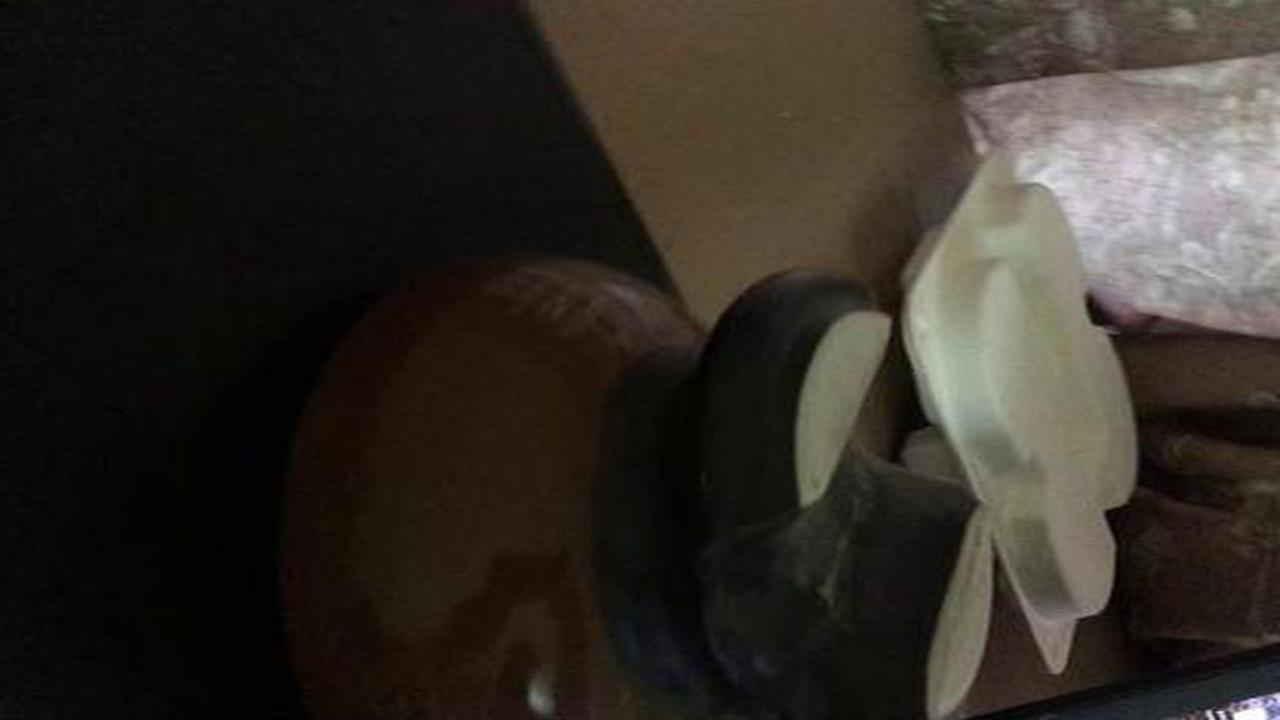insulator_pin: (233, 235, 1025, 719)
